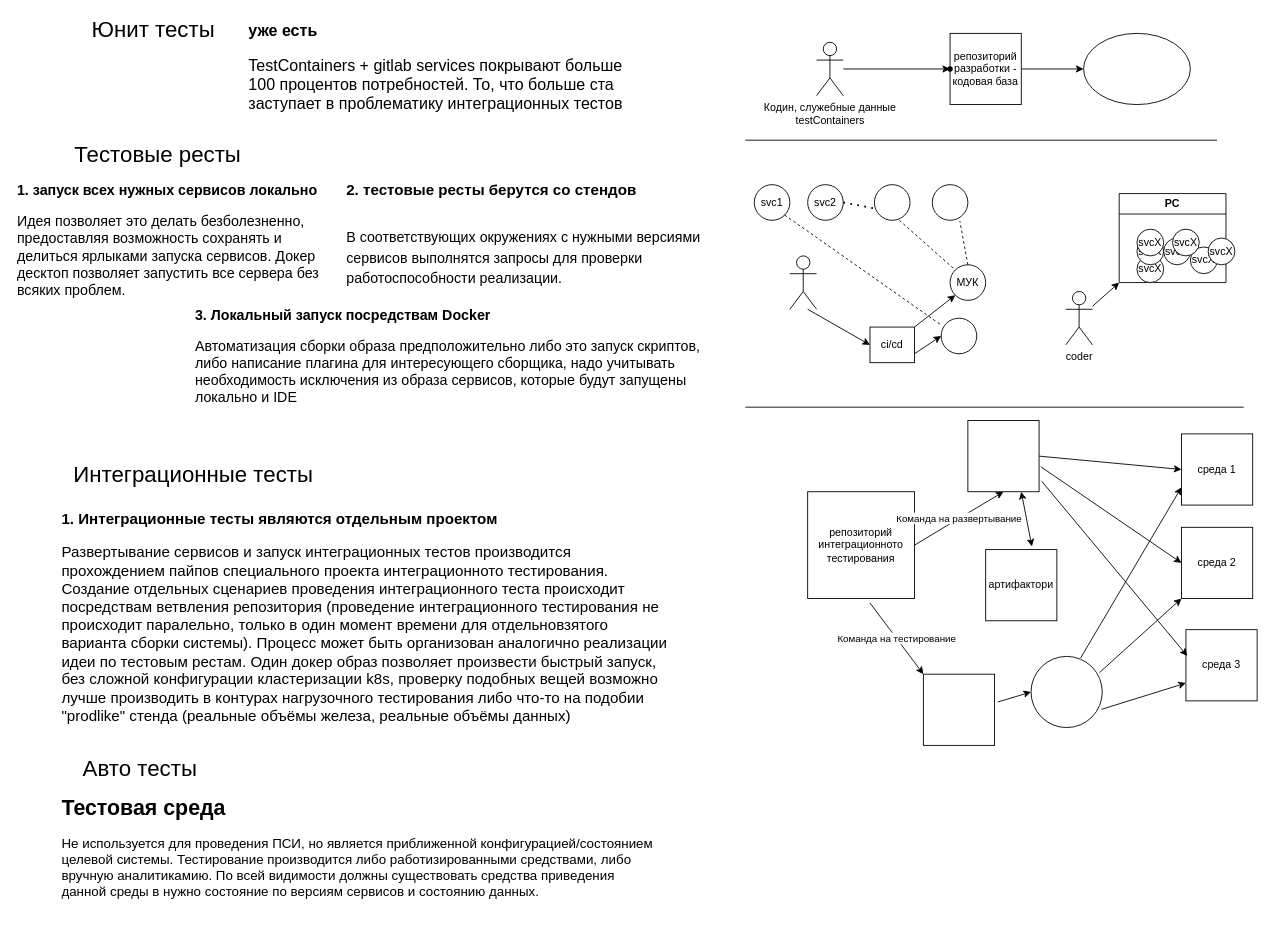
This 1273x950 diagram has some shape labels left out. The centre of each missing label's shape, as x and y in pixels:
"obj" belongs at [958,335].
"svc3" belongs at [892,202].
"svc4" belongs at [949,202].
"Кодер" belongs at [803,282].
"пайпы тестов" belongs at [958,709].
"Папы деплоя" belongs at [1003,456].
"Селениям и прочее" belongs at [1066,691].
"Тесты CI/CD gitlab services" belongs at [1136,68].
